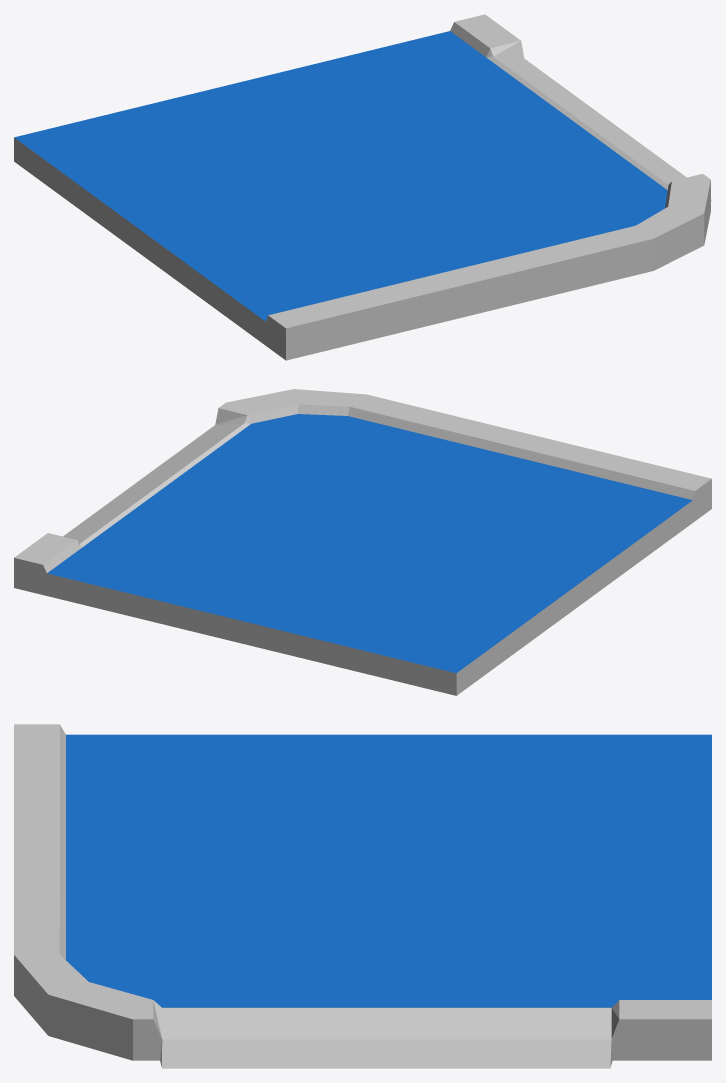
Rendered from SM_sidewalk.fbx.
3 renders of one model, top to bottom at view 1: azimuth 30°, elevation 25°; view 2: azimuth 150°, elevation 25°; view 3: azimuth 270°, elevation 25°, orthographic. The views are drawn at different scales.
Parts seen in each view (by area): view 1: Cube_31; view 2: Cube_31; view 3: Cube_31.
Part boxes in pixels (x1,y1,x2,y2): Cube_31: [14, 14, 711, 360]; Cube_31: [14, 389, 711, 695]; Cube_31: [14, 724, 711, 1068].
Size of the model in its own units: 247 by 15.7 by 240.
